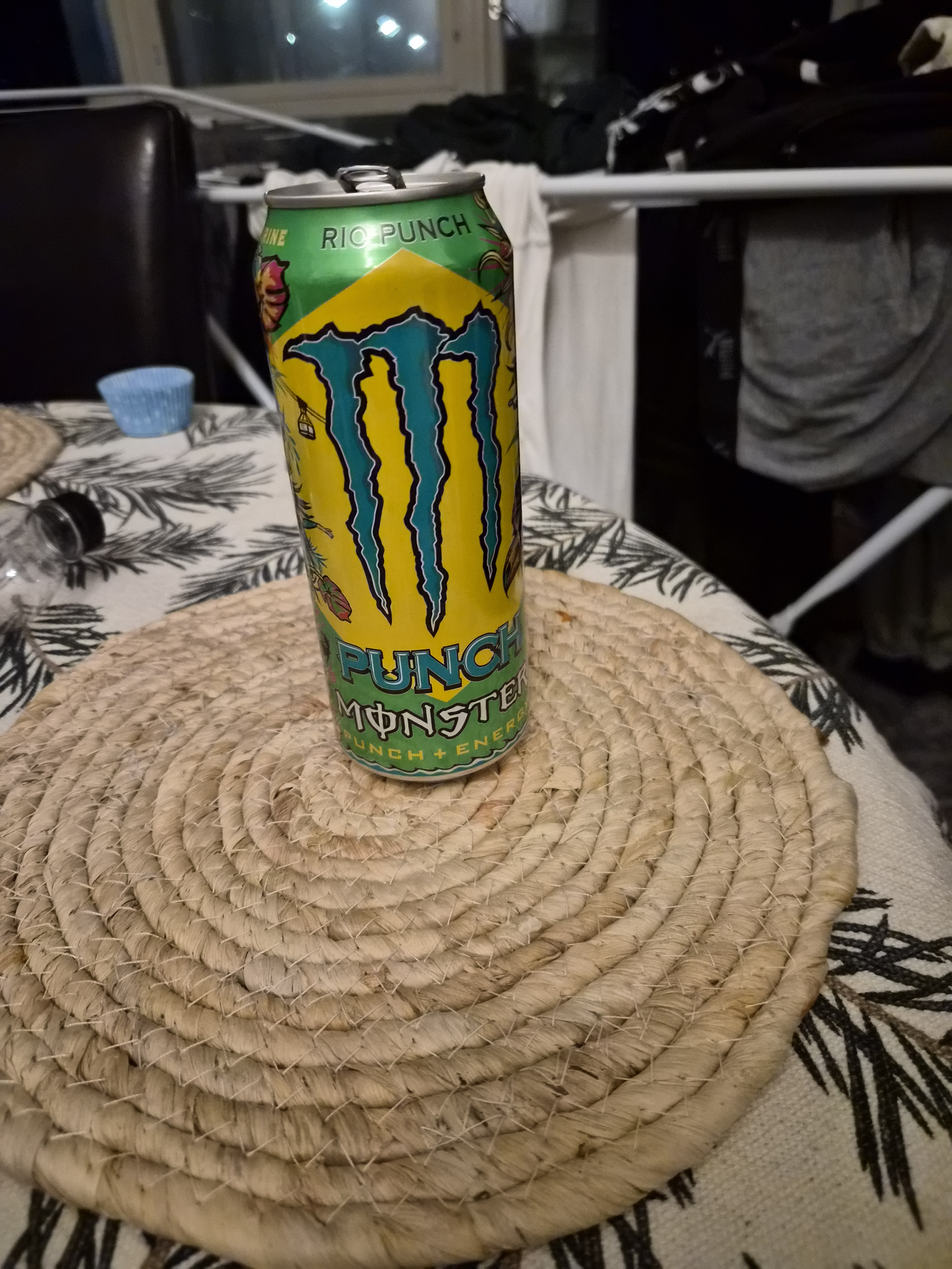Pantburk: (244, 156, 532, 777)
